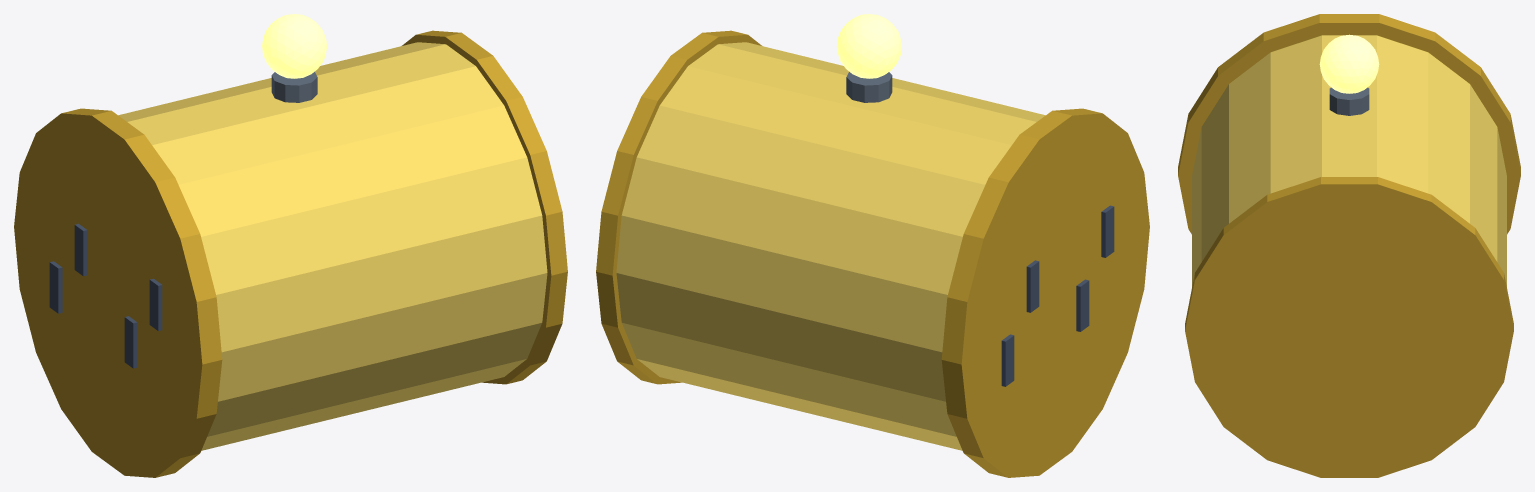
Rendered from airlock.glb.
The picture shows the model from 3 angles, left to right: view 1: azimuth 30°, elevation 25°; view 2: azimuth 150°, elevation 25°; view 3: azimuth 270°, elevation 25°; orthographic projection. The views are drawn at different scales.
Visible parts, largest first — view 1: body, hatch_ring, rear_cap, lamp, world, hatch_caution_stripe_0, hatch_caution_stripe_1, hatch_caution_stripe_2, hatch_caution_stripe_3; view 2: body, hatch_ring, rear_cap, lamp, world, hatch_caution_stripe_0, hatch_caution_stripe_1, hatch_caution_stripe_3, hatch_caution_stripe_2; view 3: rear_cap, body, hatch_ring, lamp, world.
Part boxes in pixels (x1,y1,x2,y2): body: (118,42,547,450); hatch_ring: (14,108,222,477); rear_cap: (402,30,567,384); lamp: (262,14,327,78); world: (271,71,317,102); hatch_caution_stripe_0: (49,261,62,313); hatch_caution_stripe_1: (74,223,87,276); hatch_caution_stripe_2: (124,316,137,368); hatch_caution_stripe_3: (149,278,162,330); body: (616,42,1045,450); hatch_ring: (941,108,1149,477); rear_cap: (596,30,761,384); lamp: (836,14,901,78); world: (846,71,892,102); hatch_caution_stripe_0: (1001,334,1014,386); hatch_caution_stripe_1: (1026,260,1039,312); hatch_caution_stripe_3: (1101,205,1114,257); hatch_caution_stripe_2: (1076,279,1089,331); rear_cap: (1185,177,1513,477); body: (1192,35,1506,286); hatch_ring: (1178,14,1520,234); lamp: (1319,34,1379,93); world: (1329,87,1369,115).
Size of the model in its own units: 1.12 by 1.15 by 0.98.
